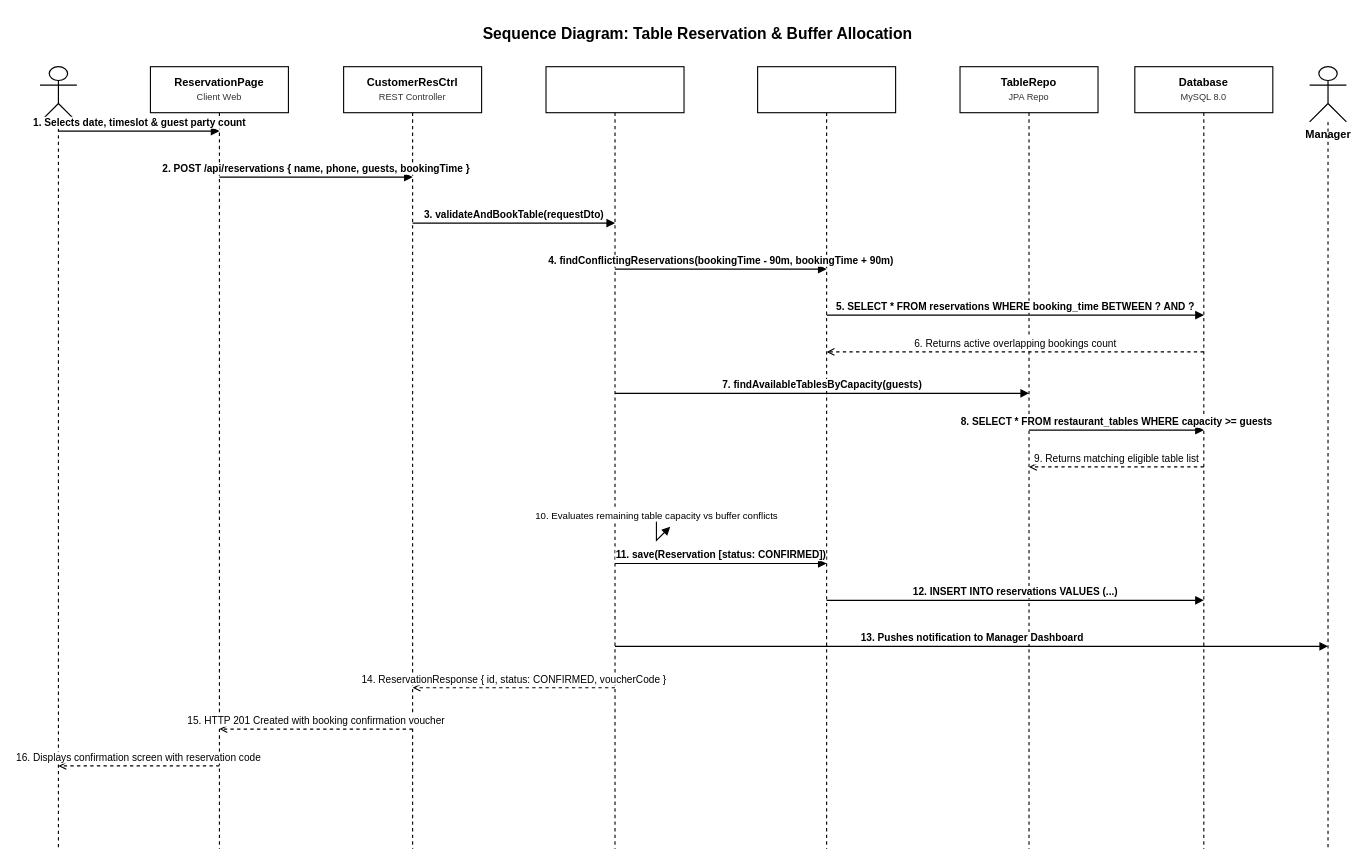
Image size: 1366x866. Some labels were removed from this diagram. The box of each missing label's shape, as (x1, y1, x2, y2) in pixels:
Customer: (39, 66, 77, 122)
ReservationRepo JPA Repo: (757, 66, 896, 849)
ReservationSrv Business Service: (545, 66, 684, 849)
